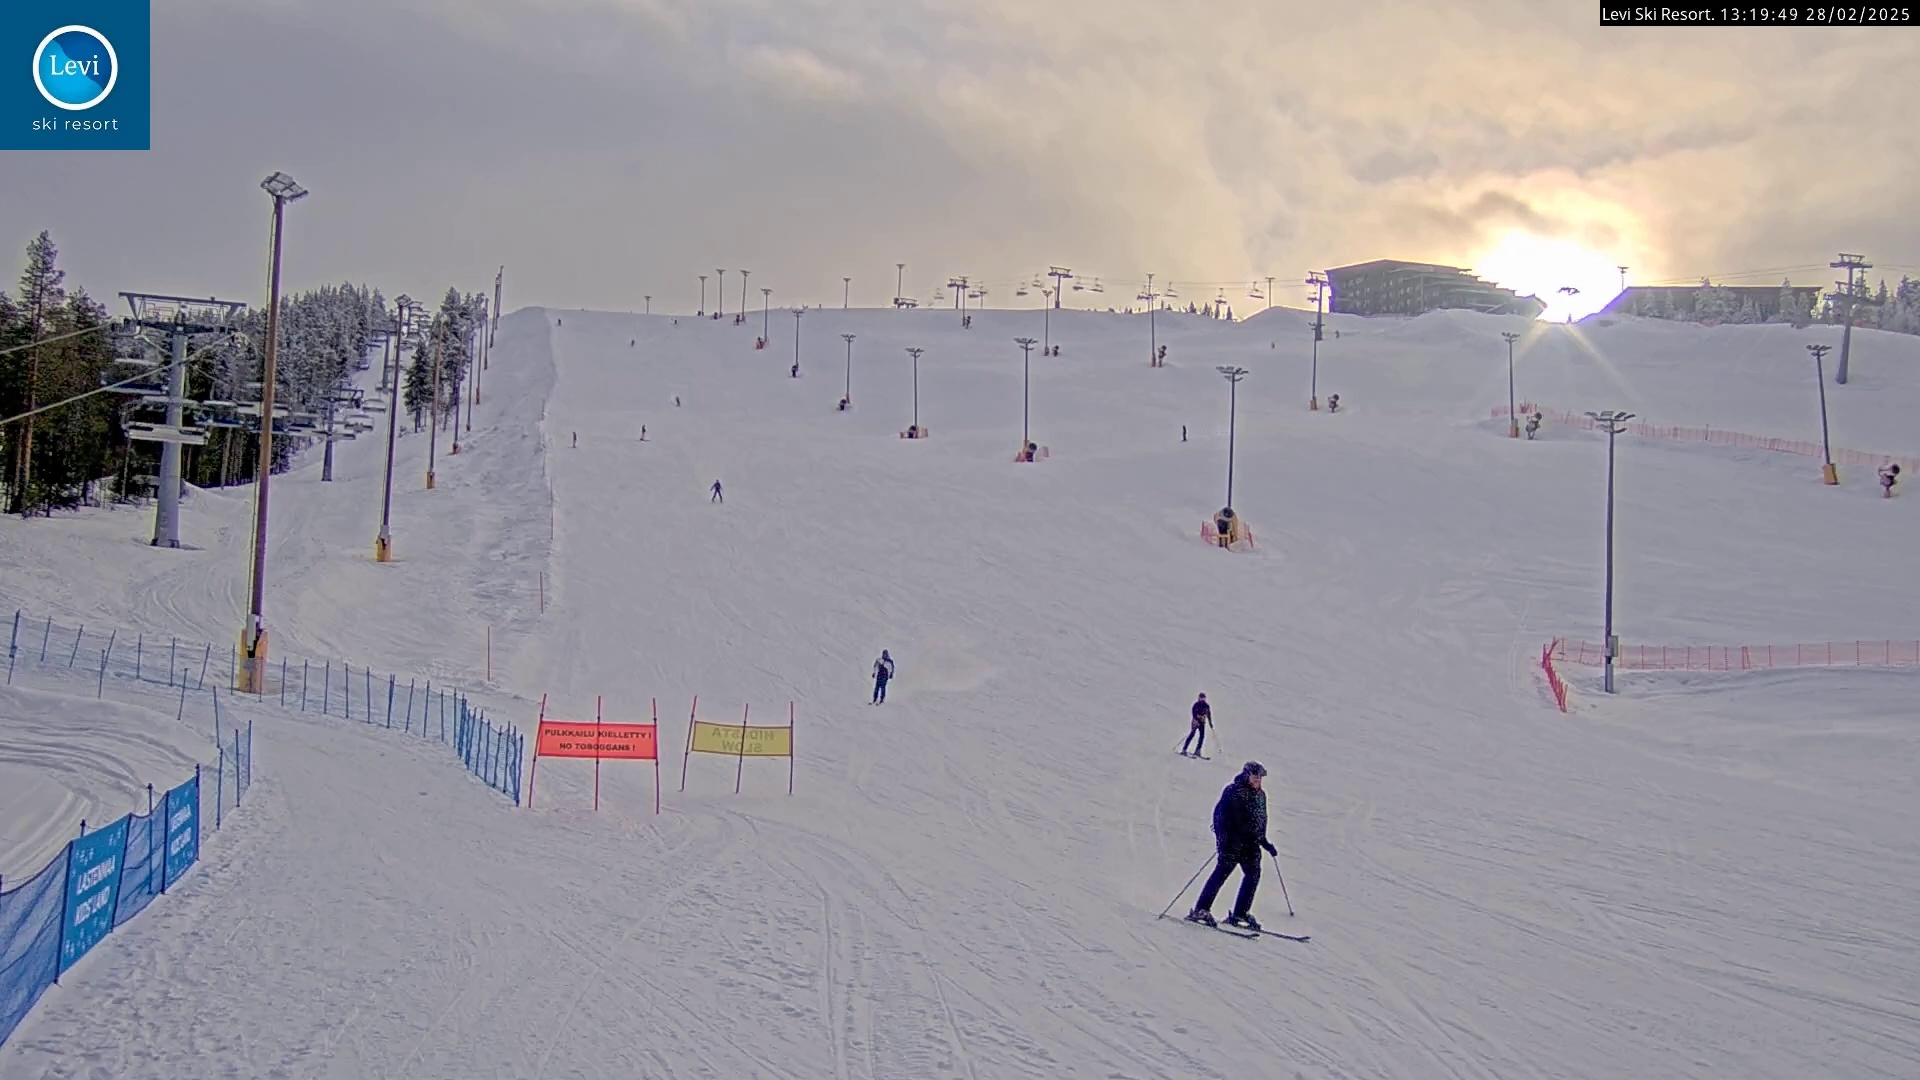skier: (1156, 765, 1313, 942), (1171, 691, 1220, 761)
